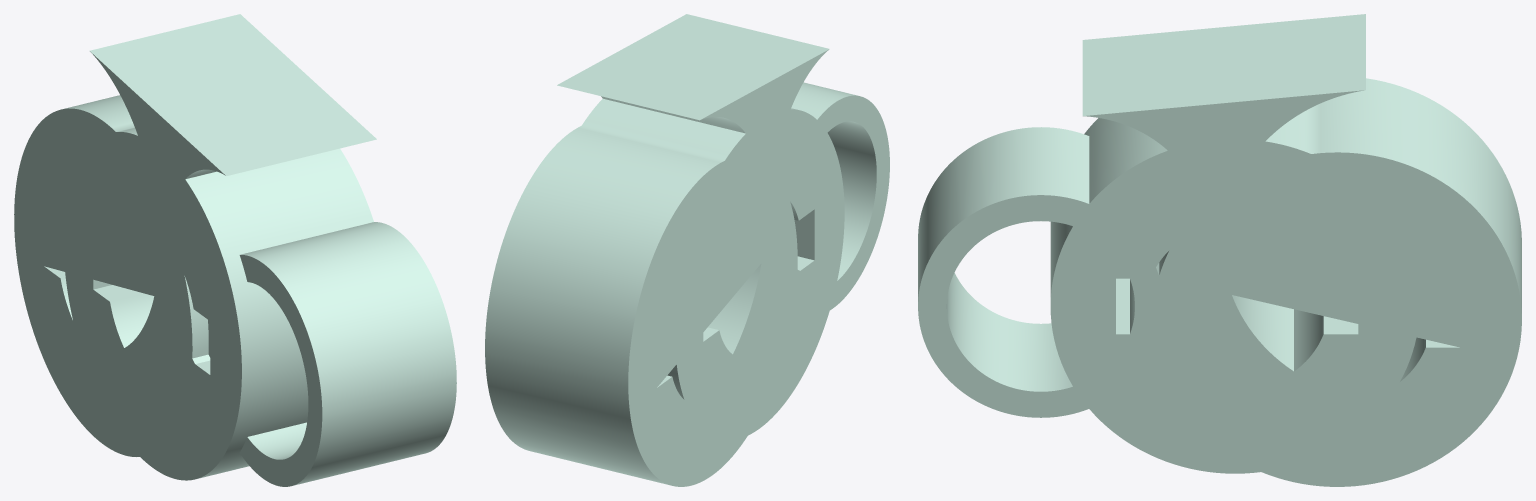
3 renders of one model, left to right at view 1: azimuth 30°, elevation 25°; view 2: azimuth 150°, elevation 25°; view 3: azimuth 270°, elevation 25°, orthographic. The views are drawn at different scales.
Parts seen in each view (by area): view 1: Renderer Node; view 2: Renderer Node; view 3: Renderer Node.
Part boxes in pixels (x1,y1,x2,y2): Renderer Node: [14, 14, 456, 486]; Renderer Node: [485, 14, 889, 486]; Renderer Node: [918, 14, 1521, 486].
Size of the model in its own units: 0.2891 by 0.7023 by 0.9686.
